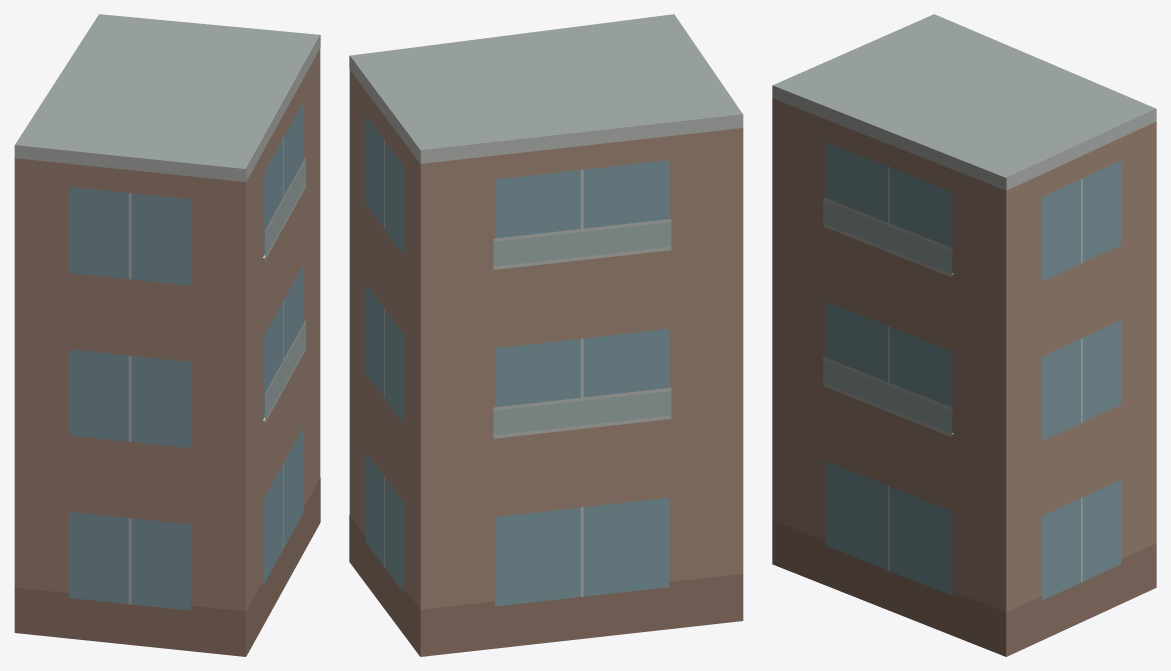
Rendered from survey-upis-32754224.glb.
3 views of the same model, side by side, from view 1: azimuth 30°, elevation 25°; view 2: azimuth 150°, elevation 25°; view 3: azimuth 270°, elevation 25° (orthographic). The views are drawn at different scales.
Parts seen in each view (by area): view 1: survey-upis-32754224.tmp; view 2: survey-upis-32754224.tmp; view 3: survey-upis-32754224.tmp.
Boxes of the visible parts, <box> form: survey-upis-32754224.tmp: <box>14,14,320,656</box>; survey-upis-32754224.tmp: <box>349,14,743,656</box>; survey-upis-32754224.tmp: <box>772,14,1156,656</box>.
Bounding box in the file's own units: 6.73 × 9.15 × 6.66.
